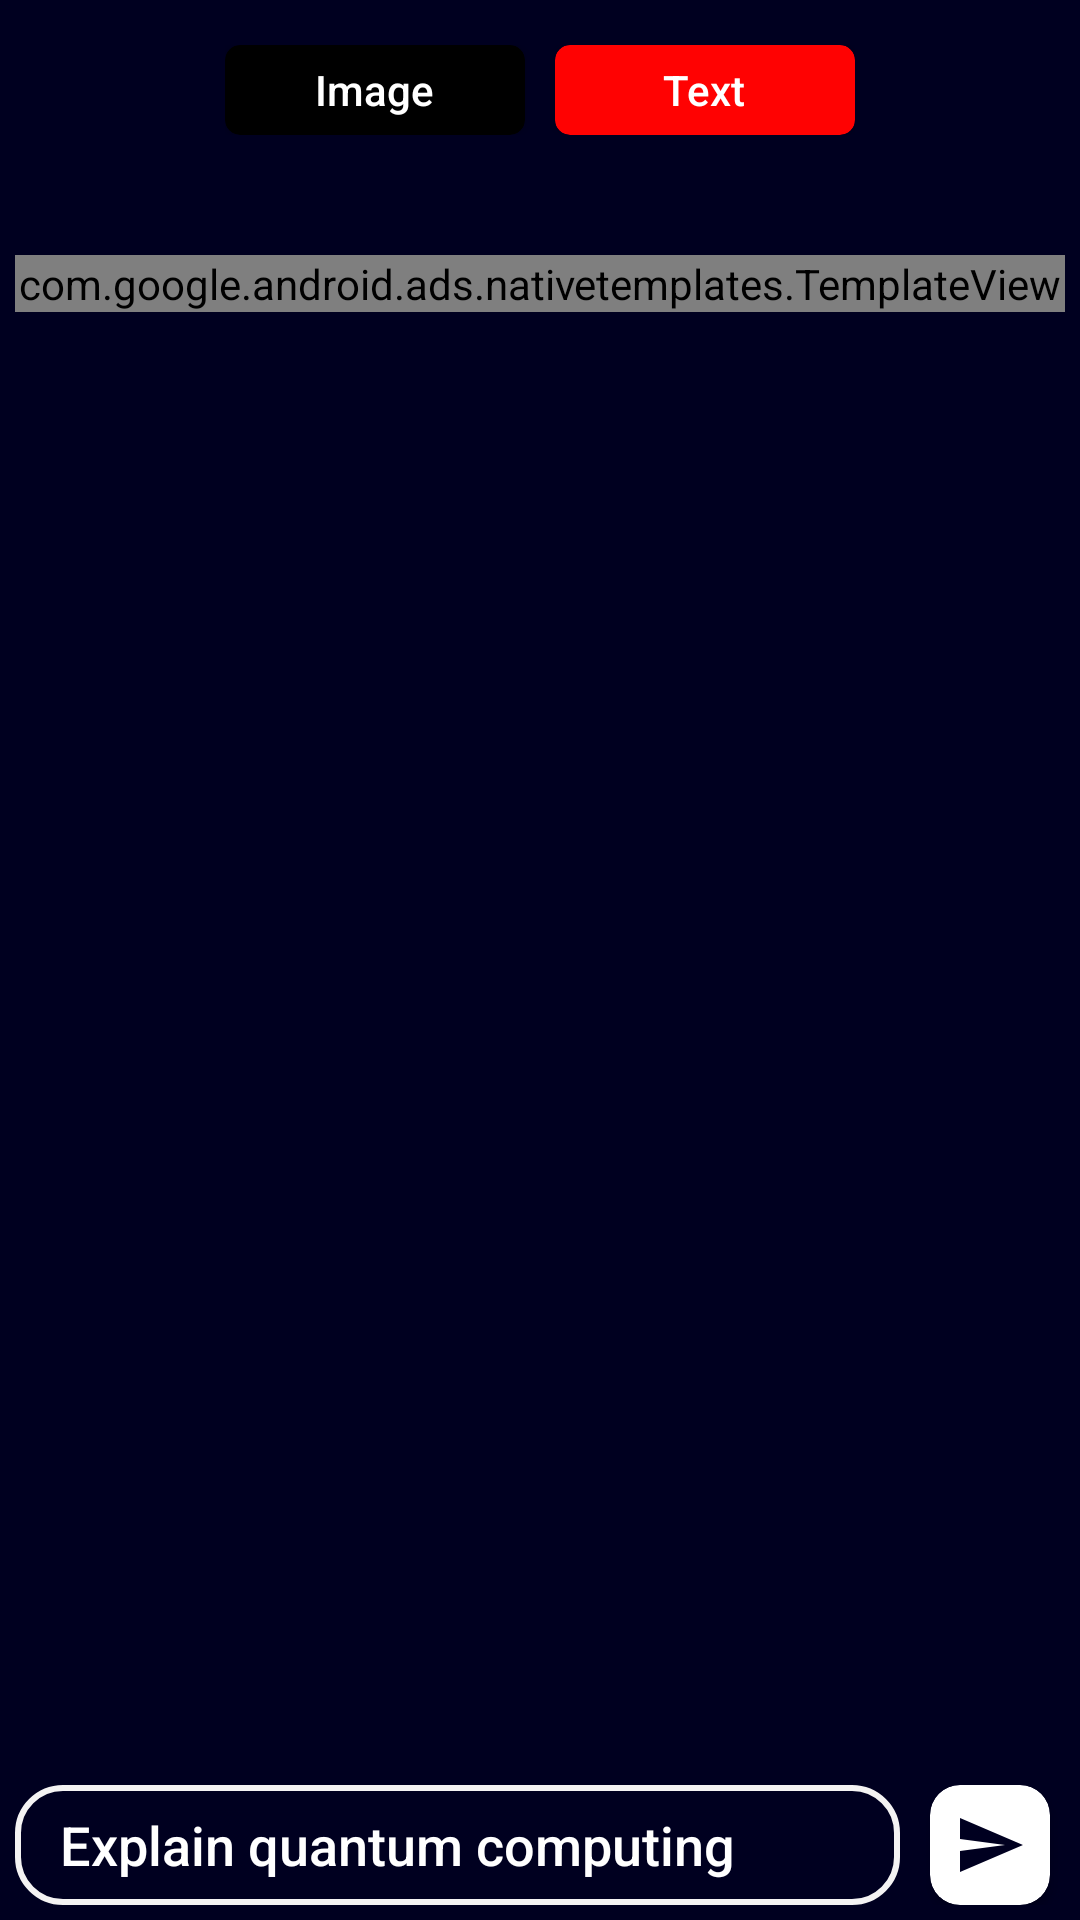

Where icons sit on this 1080px×1920px app screen, as [x1=x1, y1=y1, x2=x2, y2=y2]:
send: [x1=960, y1=1818, x2=1023, y2=1872]
